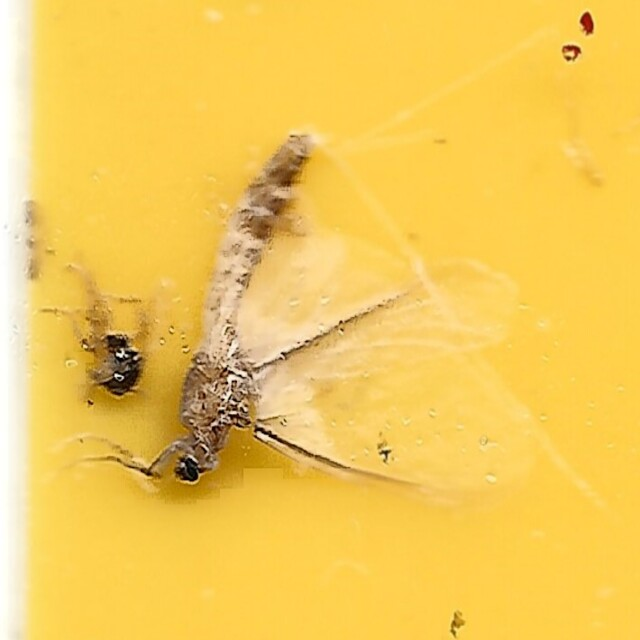Brachycera: (90, 316, 149, 409)
Ephemeroptera: (151, 120, 550, 520)
